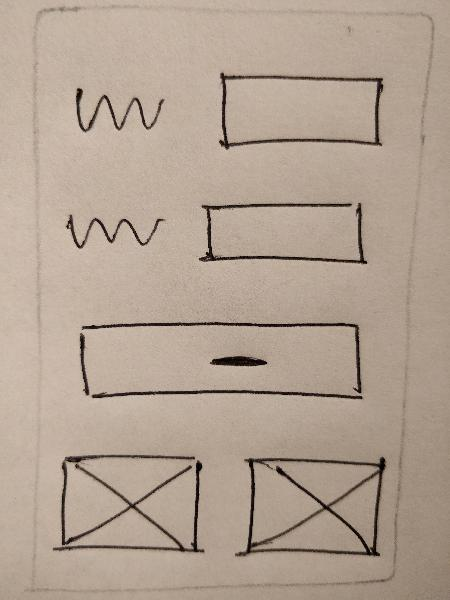button: (65, 312, 377, 413)
image: (51, 446, 209, 560), (236, 448, 387, 564)
text: (65, 78, 176, 141), (59, 202, 167, 261)
text_input: (210, 65, 389, 155), (193, 191, 376, 276)
